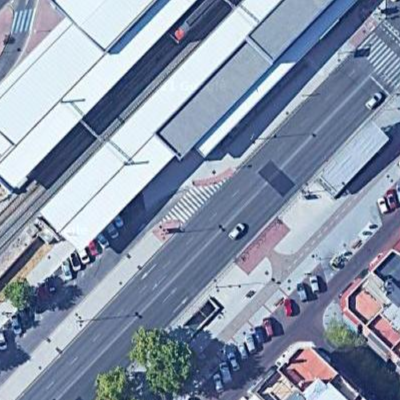tree: (130, 326, 201, 396), (323, 315, 363, 359), (92, 362, 137, 400), (3, 277, 42, 320)
